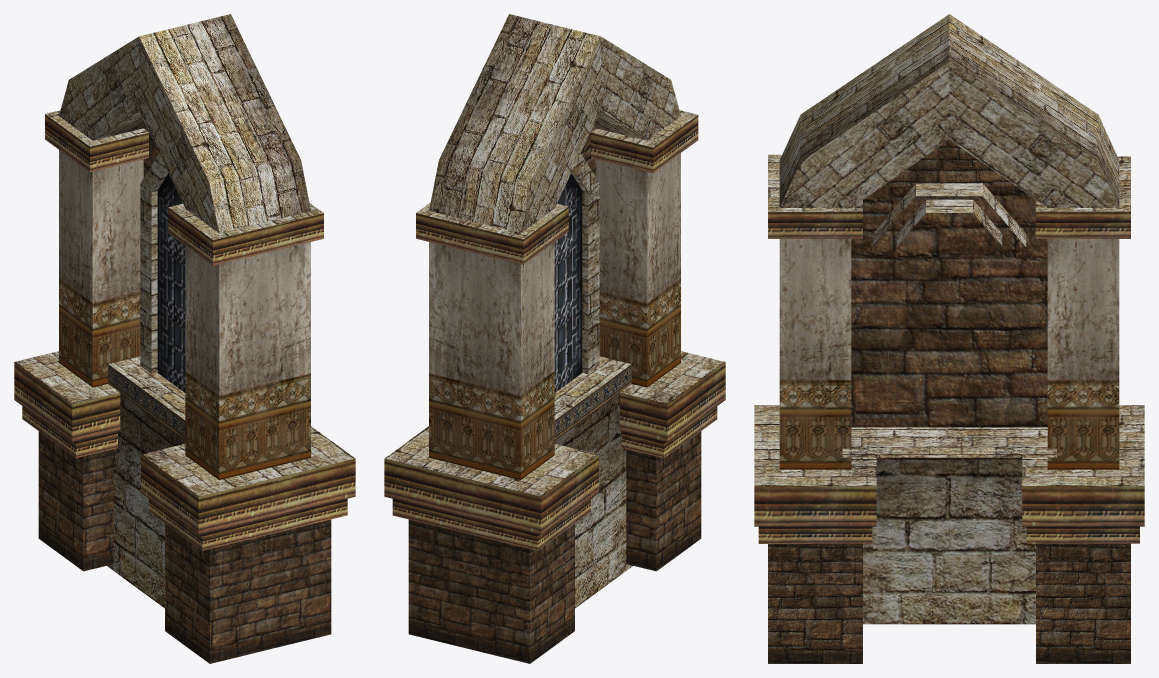
Rendered from ph_ghwin.glb.
3 renders of one model, left to right at view 1: azimuth 30°, elevation 25°; view 2: azimuth 150°, elevation 25°; view 3: azimuth 270°, elevation 25°, orthographic. The views are drawn at different scales.
Parts seen in each view (by area): view 1: ph_ghwin; view 2: ph_ghwin; view 3: ph_ghwin.
Part boxes in pixels (x1,y1,x2,y2): ph_ghwin: [14, 14, 355, 663]; ph_ghwin: [384, 14, 725, 663]; ph_ghwin: [754, 14, 1144, 663].
Bounding box in the file's own units: 1.98 × 6.86 × 4.03.
8 materials, 8 textured.
